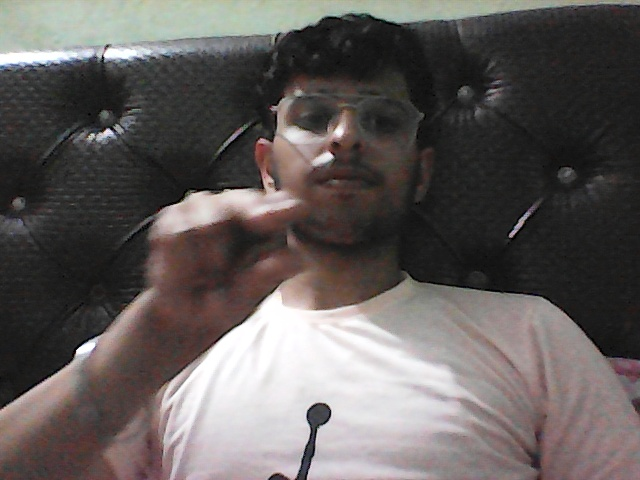no: (103, 159, 327, 362)
